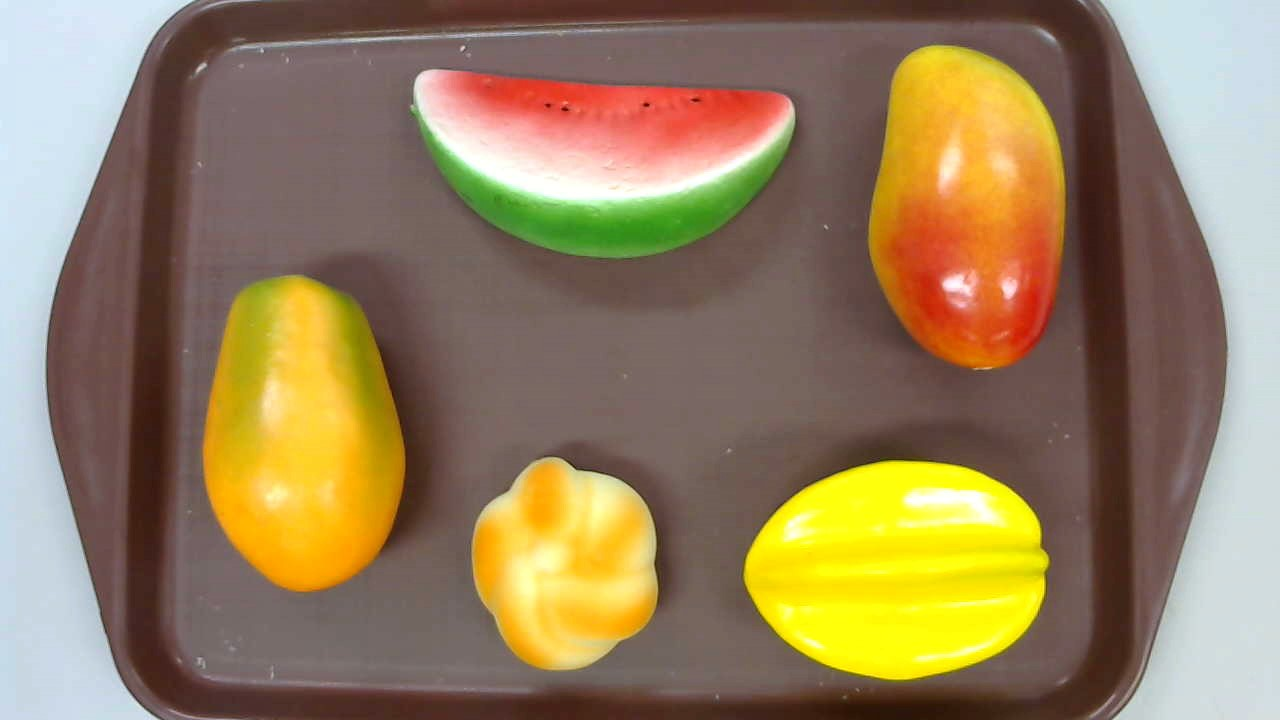papya: (201, 274, 406, 592)
red mango: (865, 44, 1067, 372)
star fruit: (743, 460, 1050, 680)
twist bread: (471, 456, 659, 671)
water melon: (410, 67, 796, 260)
